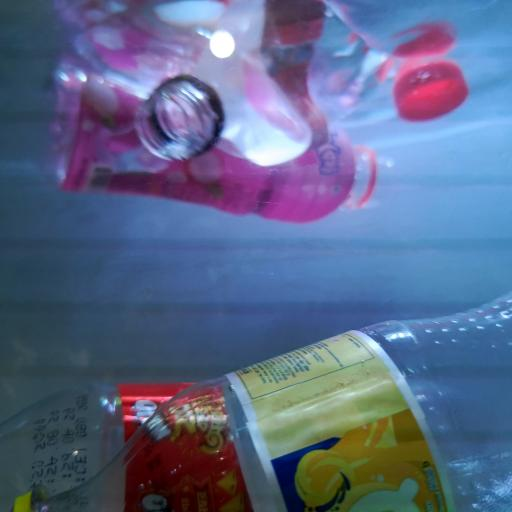bottle_cap: (391, 60, 470, 123)
plastic_bottle: (0, 285, 512, 512), (0, 385, 480, 509), (49, 60, 396, 224), (138, 6, 390, 166)
